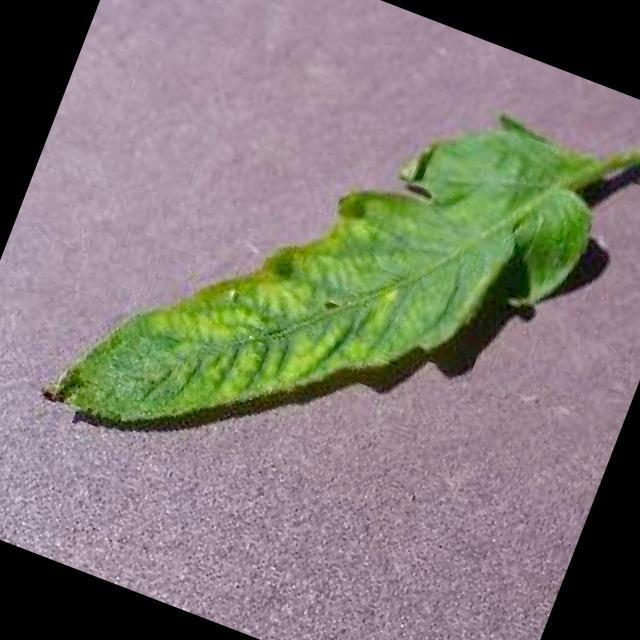Tomato mosaic virus leaf: (32, 0, 621, 571)
